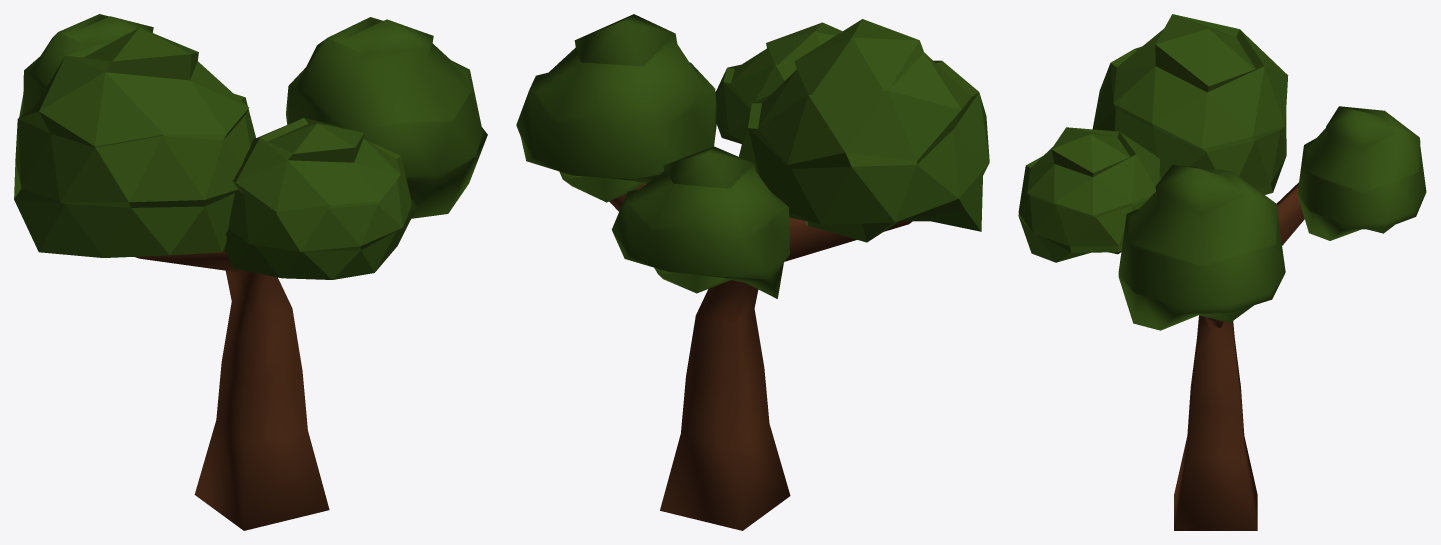
The model's file is tree2 (5).fbx.
The picture shows the model from 3 angles, left to right: view 1: azimuth 30°, elevation 25°; view 2: azimuth 150°, elevation 25°; view 3: azimuth 270°, elevation 25°; orthographic projection. The views are drawn at different scales.
Visible parts, largest first — view 1: tree.001; view 2: tree.001; view 3: tree.001.
Part boxes in pixels (x1=…): tree.001: x1=14, y1=14, x2=487, y2=530; tree.001: x1=516, y1=14, x2=989, y2=530; tree.001: x1=1018, y1=14, x2=1426, y2=530.
Size of the model in its own units: 2029 by 2169 by 1856.
